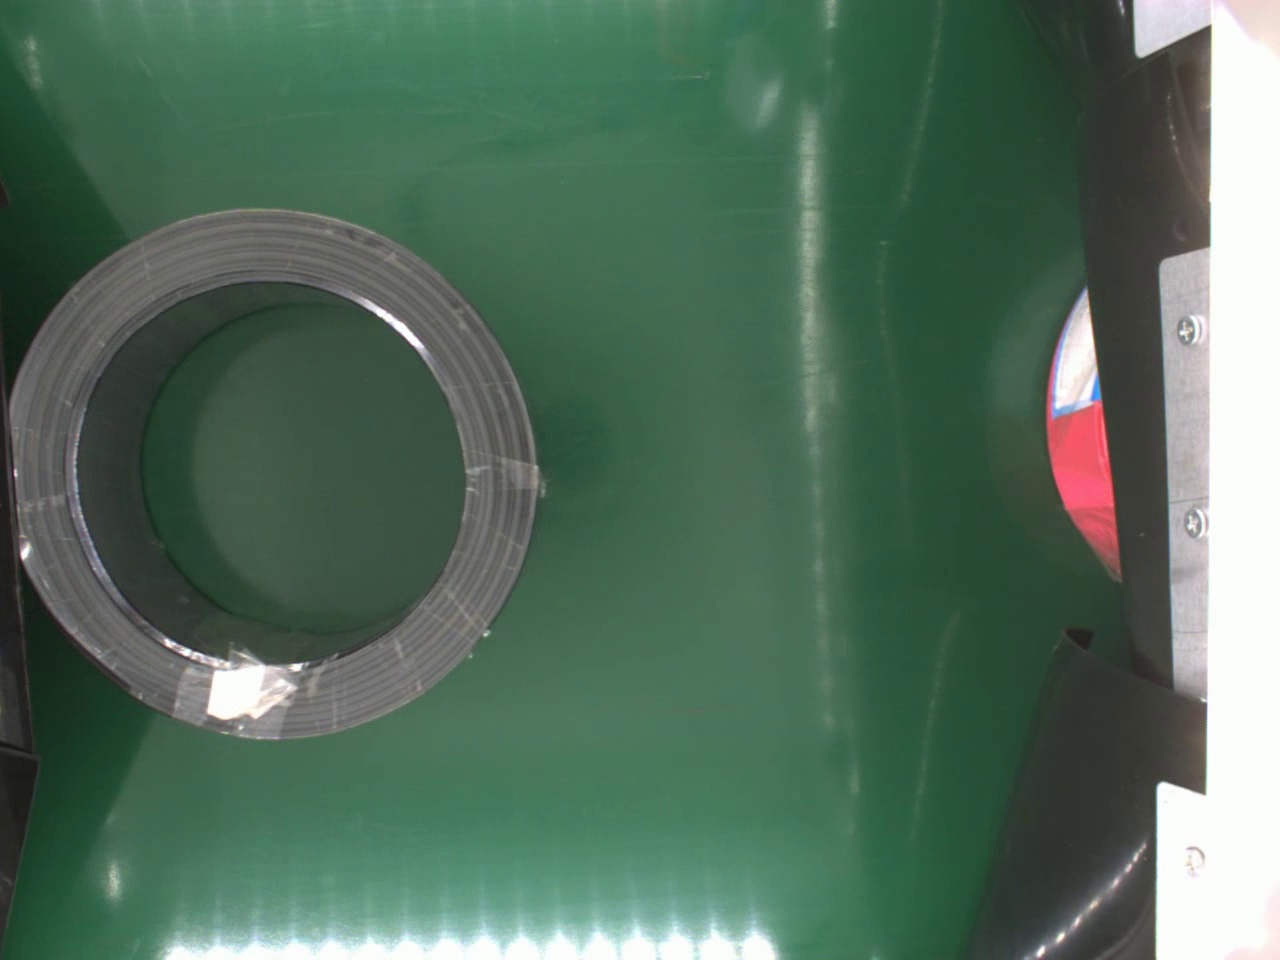black: (9, 201, 547, 745)
